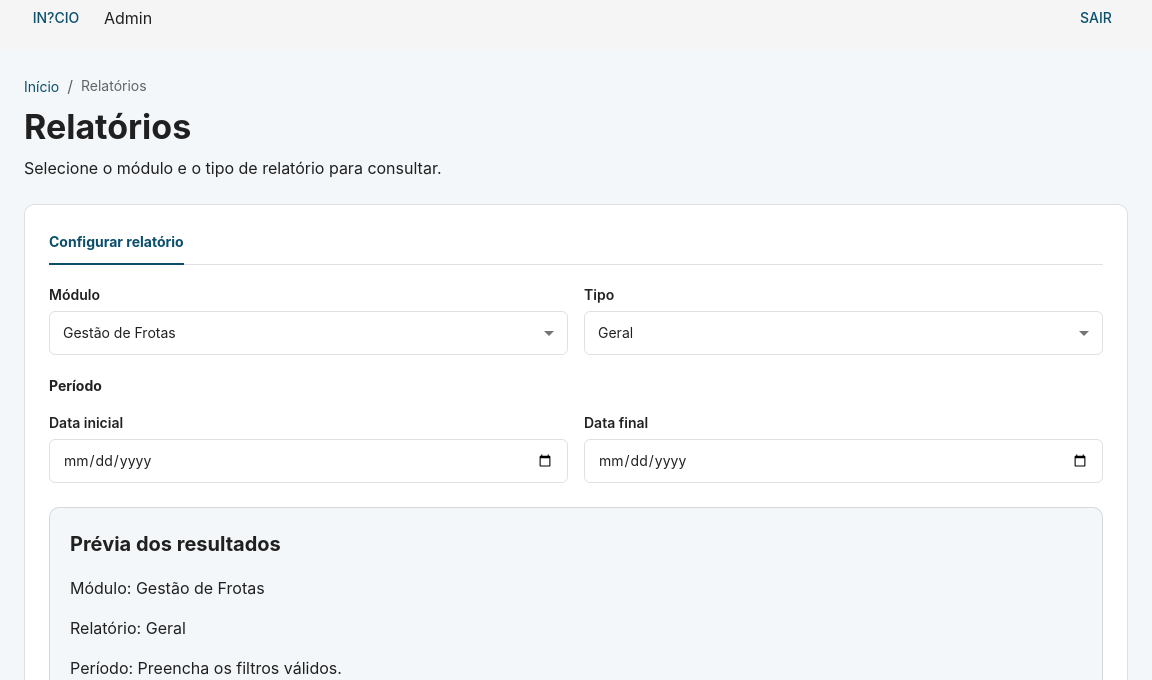
Test: mostra erro HTTP 403 e mantém ações bloqueadas
Select "Individual" in the dropdown labelled "Tipo": (844, 333) x1=584 y1=311 x2=1103 y2=355
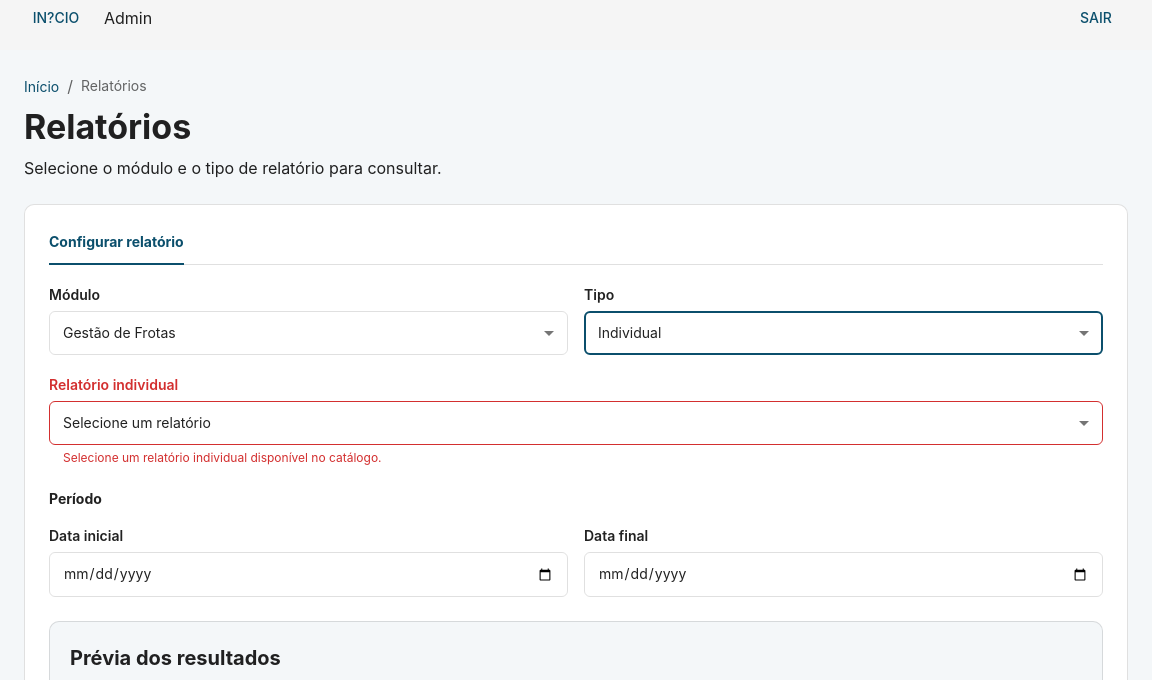
Select "Abastecimentos" in the dropdown labelled "Relatório individual": (576, 423) x1=49 y1=401 x2=1103 y2=445
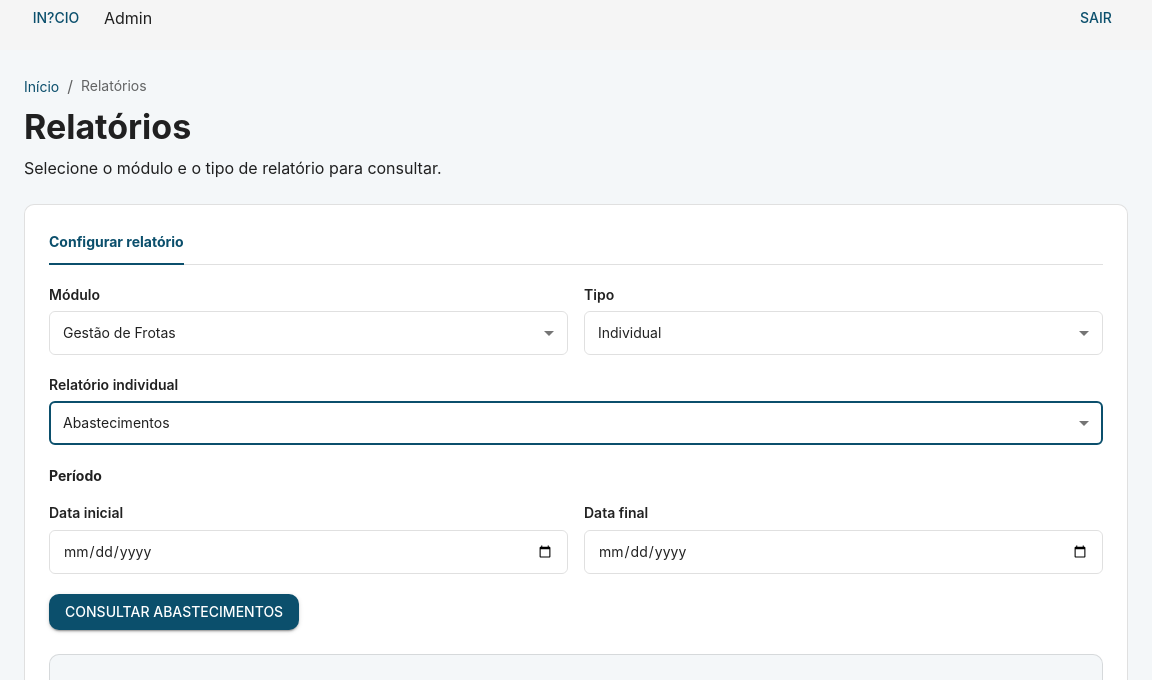
In the date field labelled "Data inicial": (308, 552) x1=49 y1=530 x2=568 y2=574, type "2026-11-01"
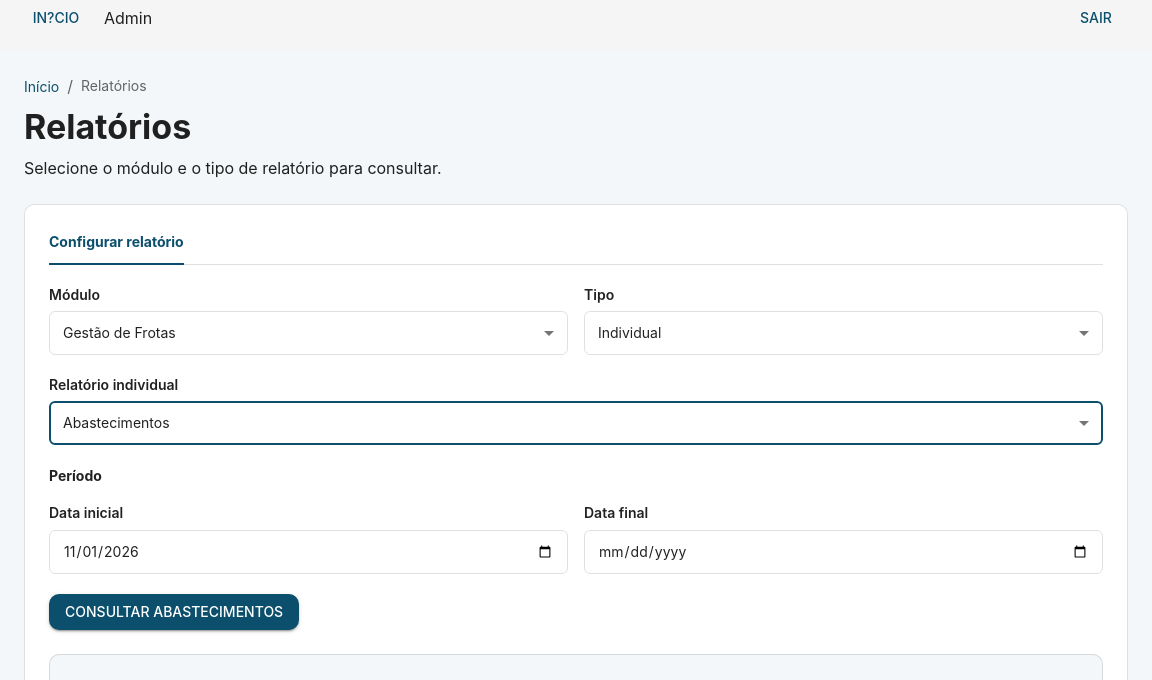
In the date field labelled "Data final": (844, 552) x1=584 y1=530 x2=1103 y2=574, type "2026-11-14"
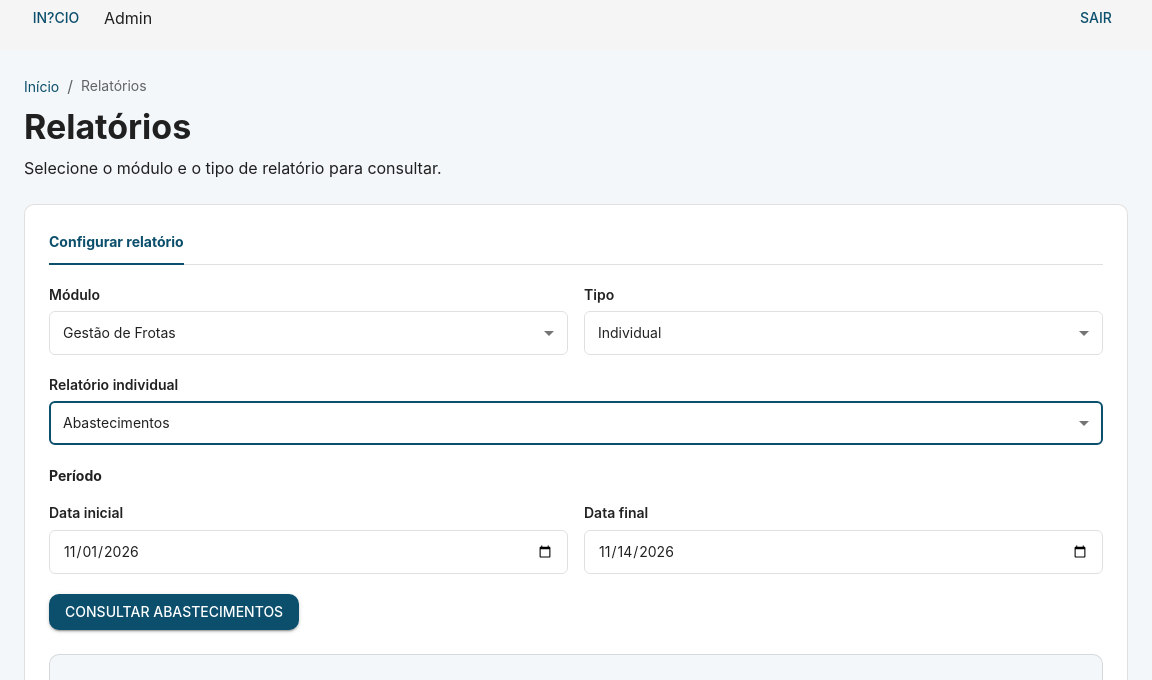
Click the button "Consultar abastecimentos": (174, 612) x1=49 y1=594 x2=299 y2=630
(page scrolled)
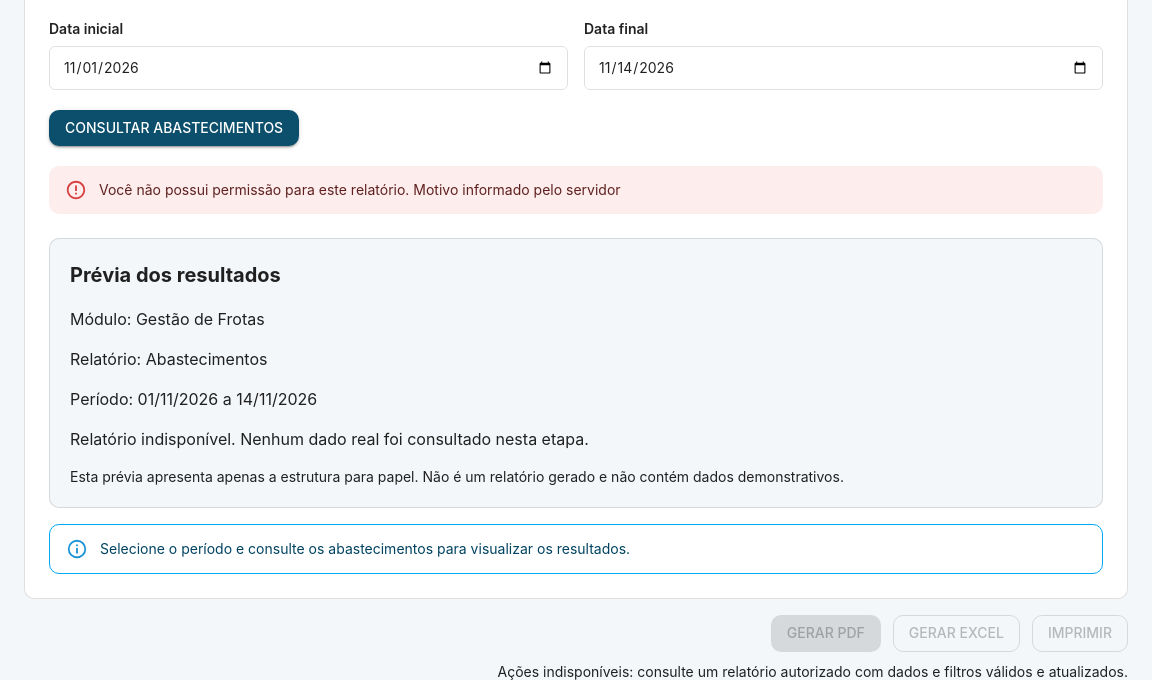
Check: the button "Imprimir" is disabled, box x1=1032 y1=615 x2=1128 y2=652
Check: the text "Motivo informado pelo servidor" is shown, box x1=99 y1=181 x2=621 y2=198
